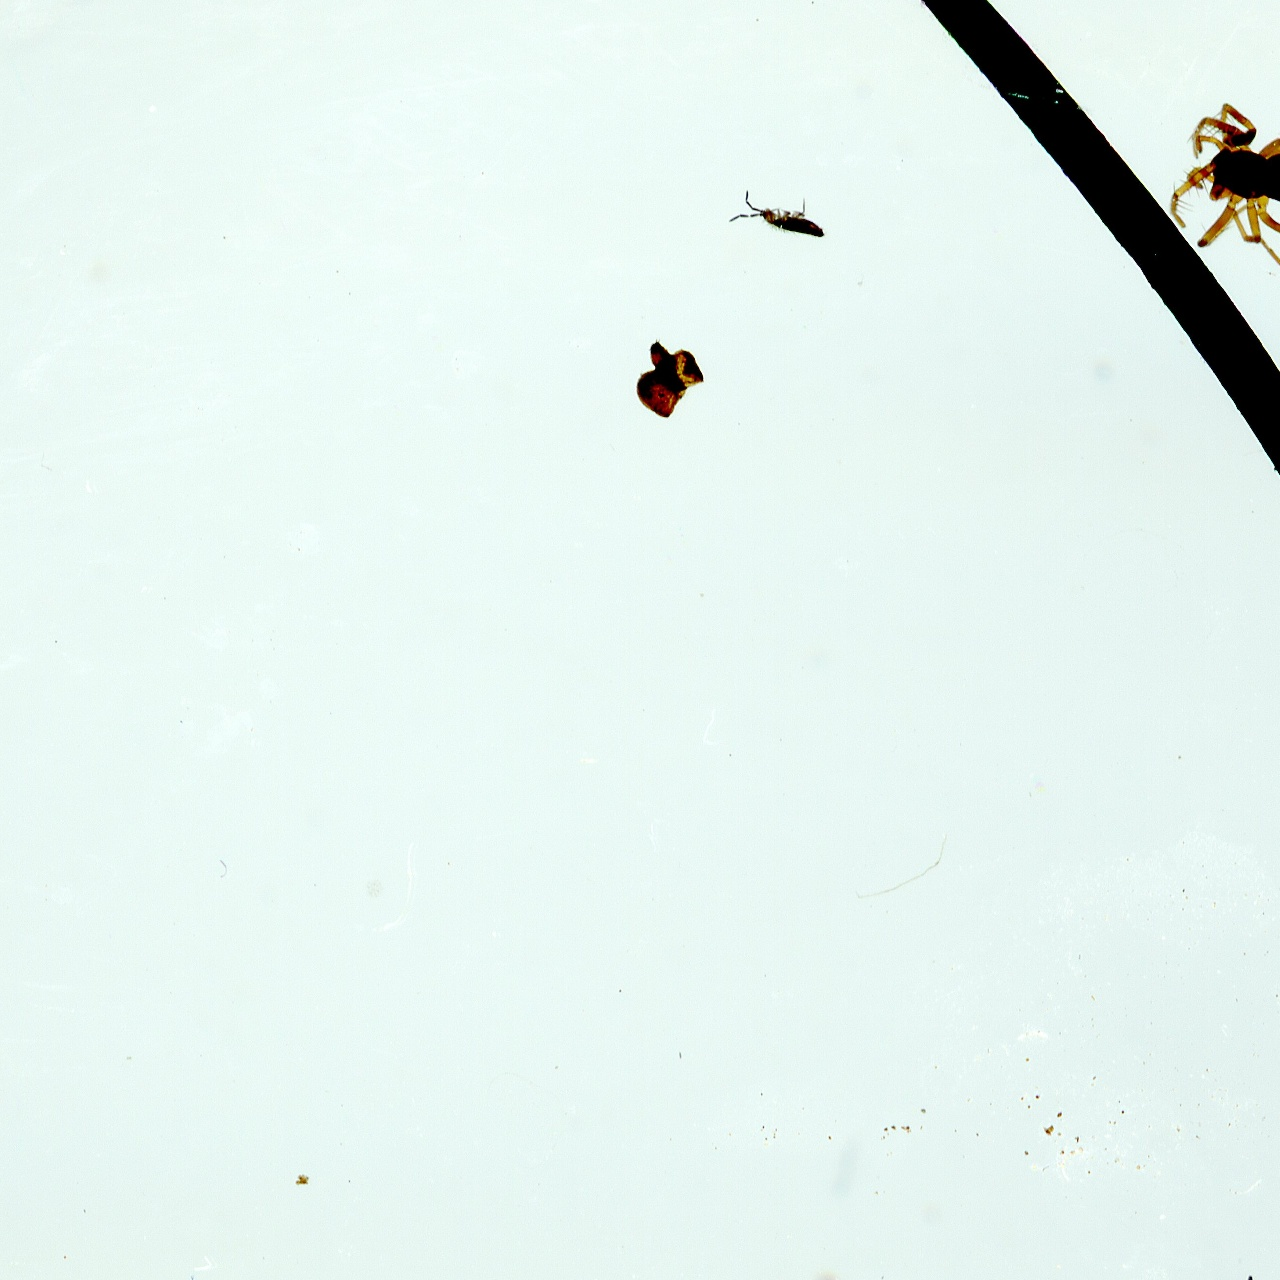arthropod: (1150, 83, 1280, 301), (713, 178, 850, 259), (1164, 1257, 1280, 1280)
